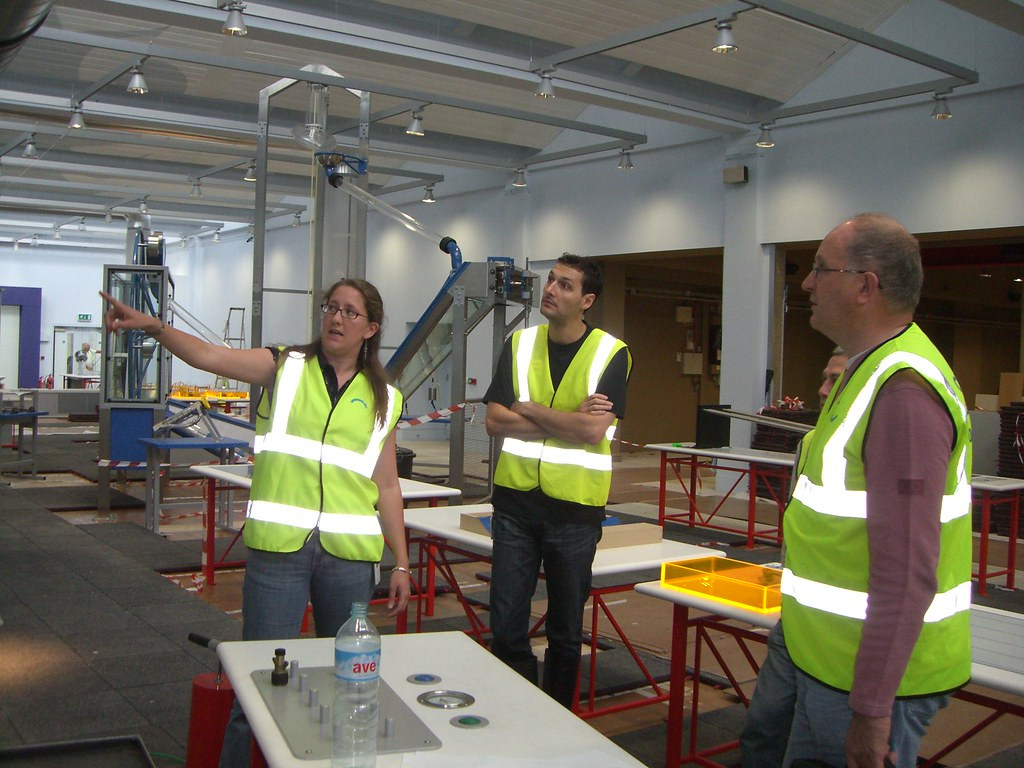Person: (741, 215, 981, 768), (96, 273, 413, 638), (478, 255, 635, 718)
Vest: (761, 218, 975, 691), (244, 281, 411, 559), (492, 260, 631, 504)
